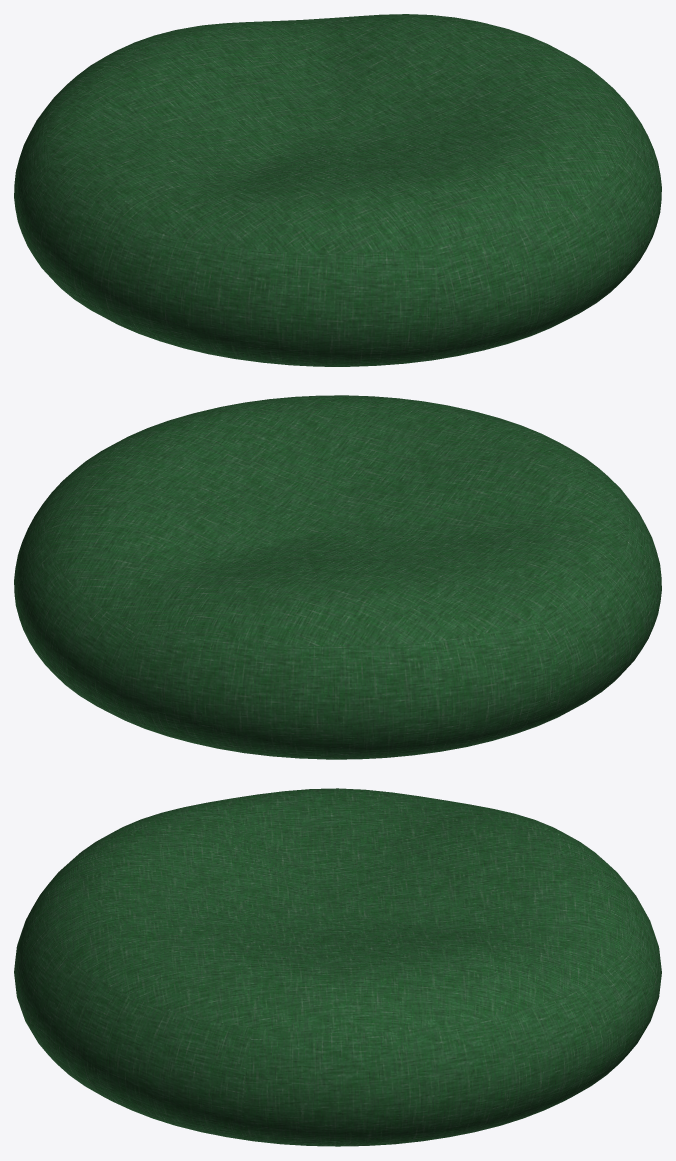
The model's file is CushionG.fbx.
The picture shows the model from 3 angles, top to bottom: view 1: azimuth 30°, elevation 25°; view 2: azimuth 150°, elevation 25°; view 3: azimuth 270°, elevation 25°; orthographic projection.
Visible parts, largest first — view 1: Cushion; view 2: Cushion; view 3: Cushion.
Boxes of the visible parts, left/top/right/bottom form: Cushion: left=14, top=14, right=661, bottom=366; Cushion: left=14, top=395, right=661, bottom=759; Cushion: left=14, top=788, right=661, bottom=1146.
Bounding box in the file's own units: 0.4024 × 0.1039 × 0.4024.
1 material, 1 textured.
